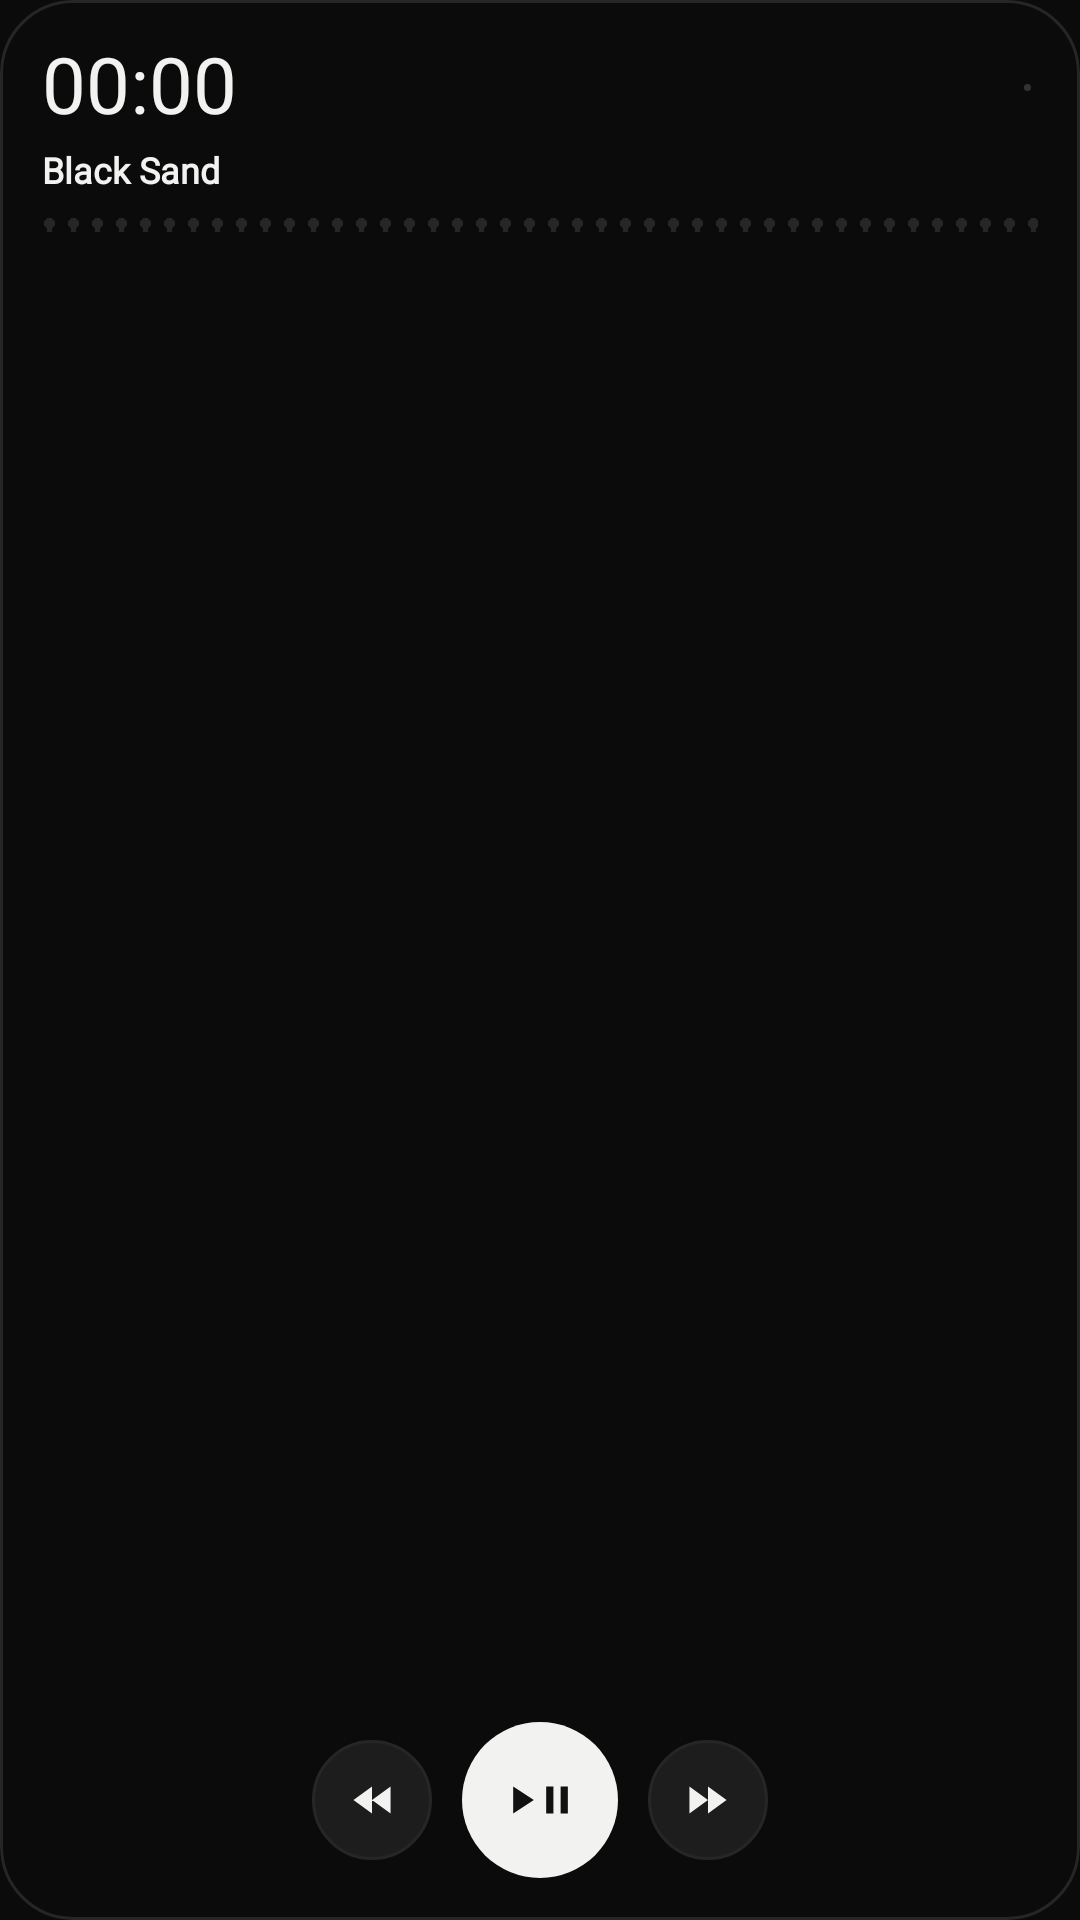

Screen size 1080 × 1920. Icon name, then its center in pixels as point (x, y):
Next: point (708, 1800)
Play or pause: point (540, 1800)
Previous: point (372, 1800)
